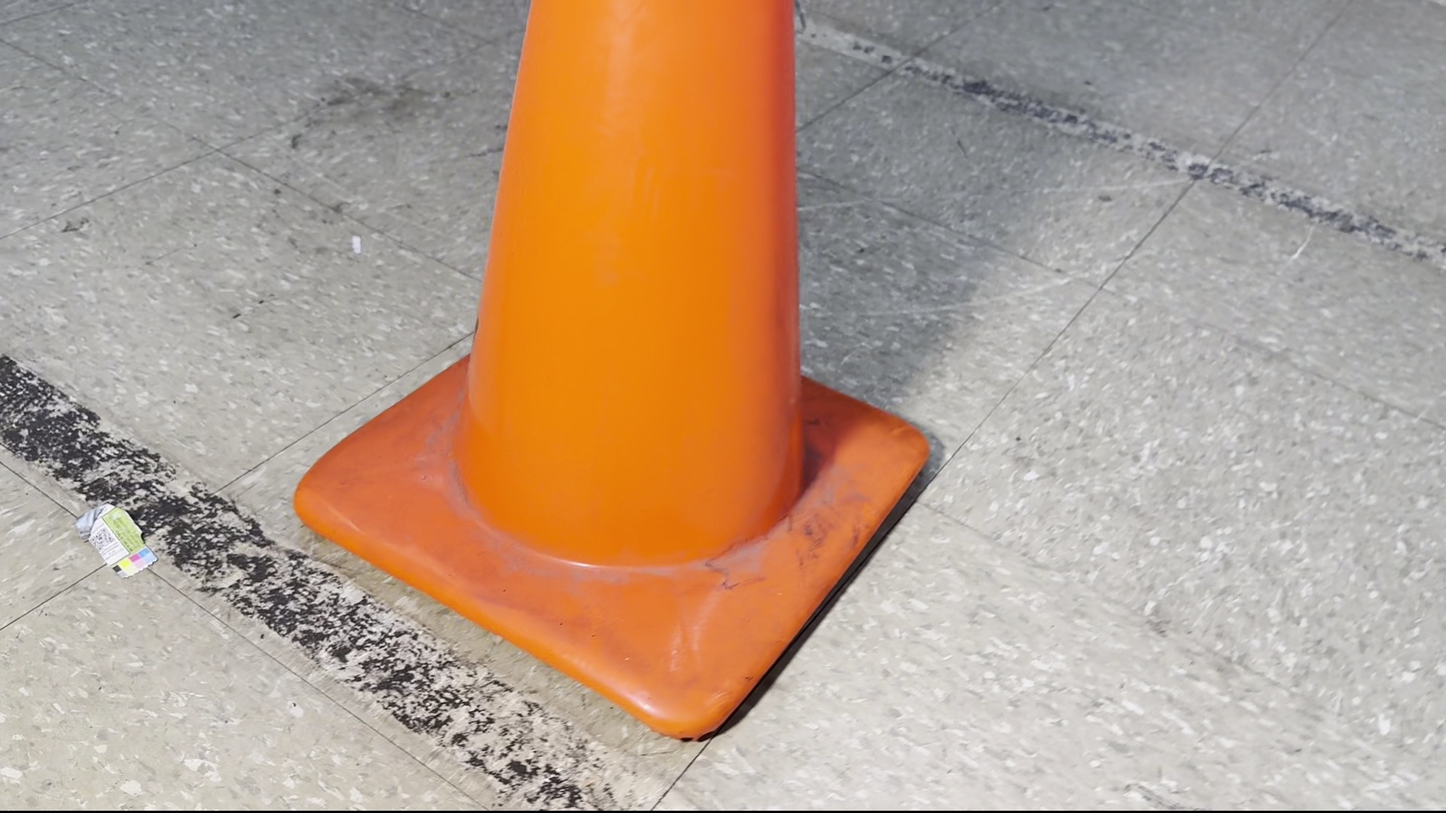traffic_cone: (292, 0, 932, 742)
